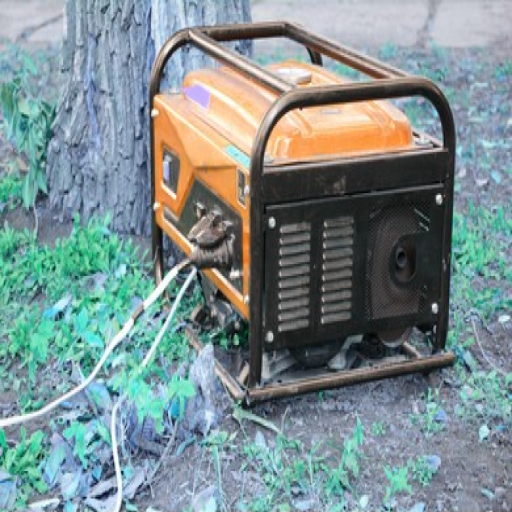portable_generator: (147, 22, 456, 384)
